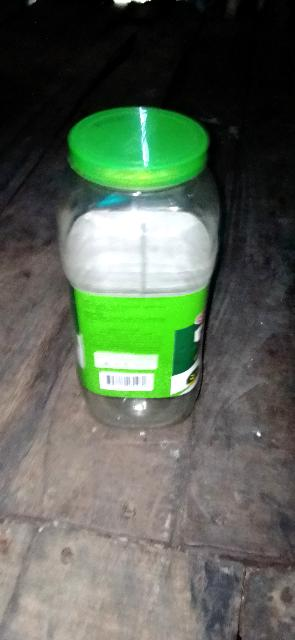hardplastic: (31, 81, 244, 443)
